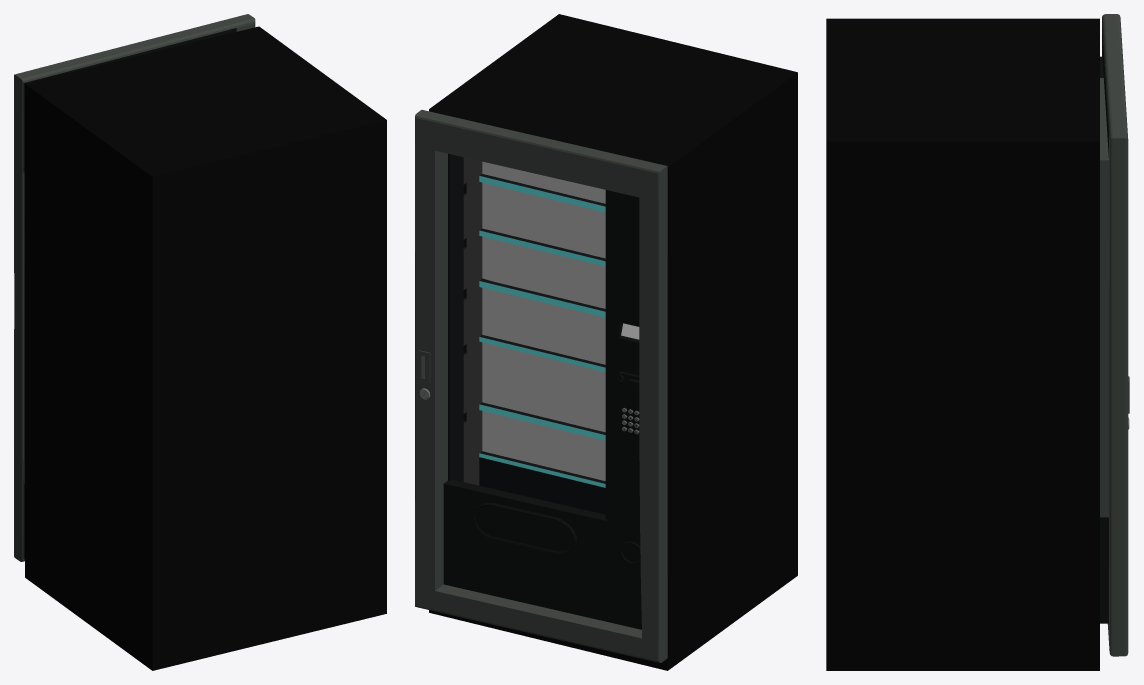
File: VendingSnack.obj
The picture shows the model from 3 angles, left to right: view 1: azimuth 30°, elevation 25°; view 2: azimuth 150°, elevation 25°; view 3: azimuth 270°, elevation 25°; orthographic projection. The views are drawn at different scales.
Parts seen in each view (by area): view 1: Vending_Machine_Outside_box_0; view 2: Vending_Machine_Outside_box_0; view 3: Vending_Machine_Outside_box_0.
Part boxes in pixels (x1=…): Vending_Machine_Outside_box_0: x1=14, y1=14, x2=386, y2=670; Vending_Machine_Outside_box_0: x1=415, y1=14, x2=797, y2=670; Vending_Machine_Outside_box_0: x1=826, y1=14, x2=1129, y2=670.
Size of the model in its own units: 0.9257 by 1.85 by 0.9543.
